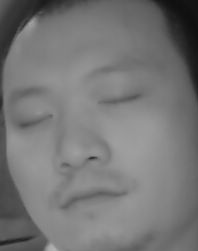blink: (96, 90, 138, 111), (18, 109, 54, 131)
mouth: (56, 181, 126, 215)
